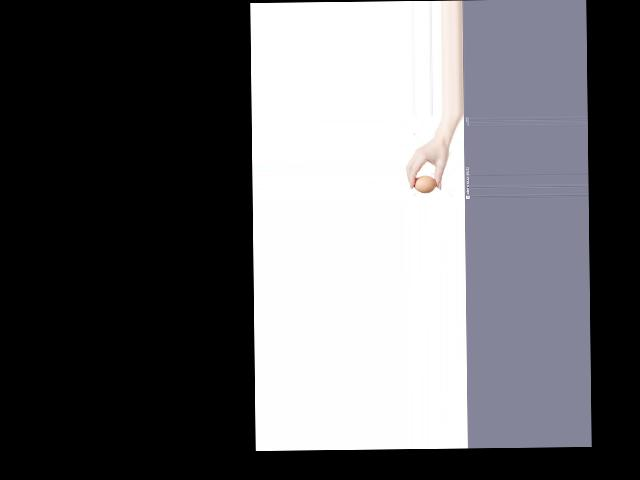egg: (414, 174, 436, 193)
